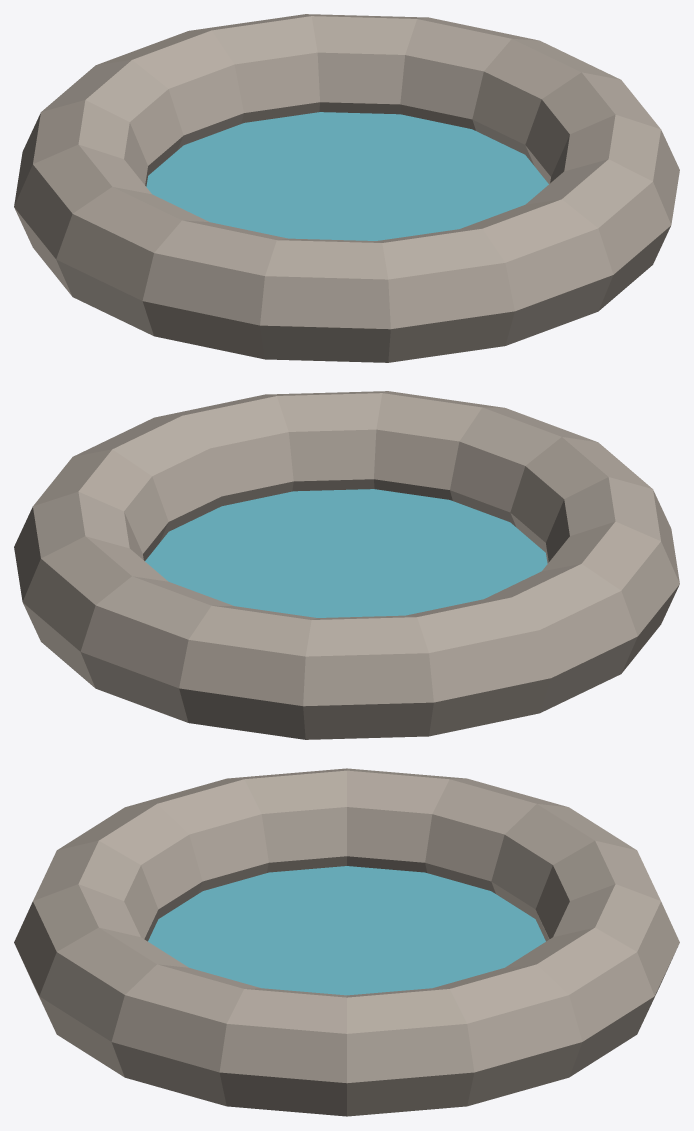
File: tidal_pool.dae
The picture shows the model from 3 angles, top to bottom: view 1: azimuth 30°, elevation 25°; view 2: azimuth 150°, elevation 25°; view 3: azimuth 270°, elevation 25°; orthographic projection.
Parts seen in each view (by area): view 1: Torus.011, Cylinder; view 2: Torus.011, Cylinder; view 3: Torus.011, Cylinder.
Part boxes in pixels (x1,y1,x2,y2): Torus.011: (14,14,679,362); Cylinder: (146,112,548,240); Torus.011: (14,391,679,739); Cylinder: (145,489,547,617); Torus.011: (14,768,679,1116); Cylinder: (148,866,545,995).
Bounding box in the file's own units: 124 × 124 × 24.
